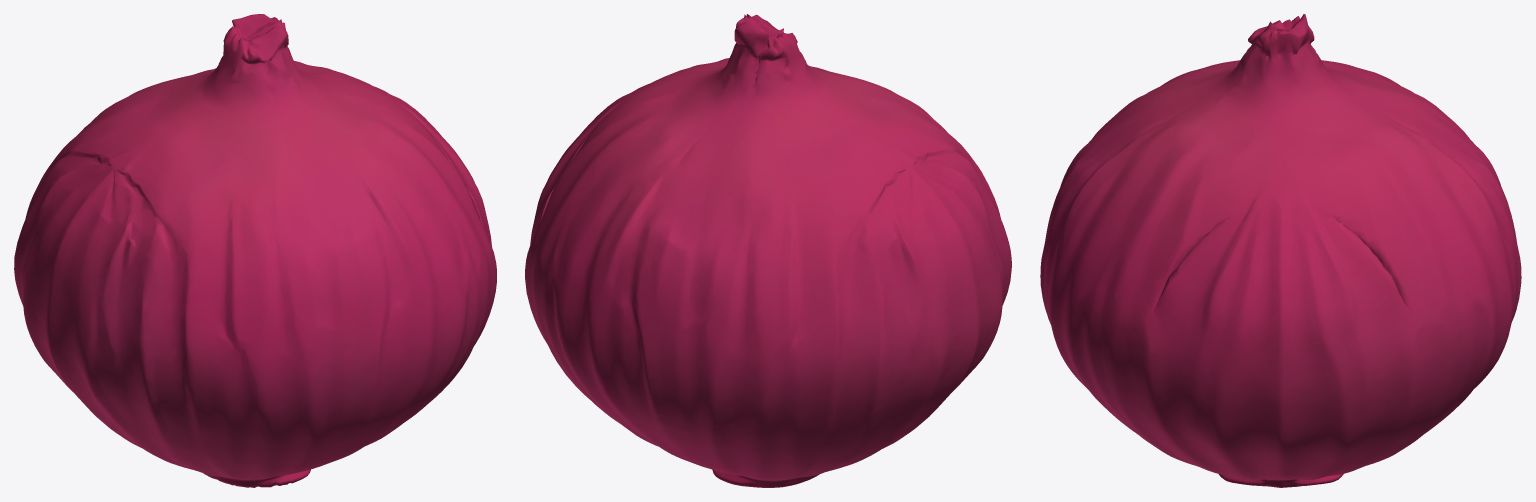
Rendered from cebolla.glb.
3 views of the same model, side by side, from view 1: azimuth 30°, elevation 25°; view 2: azimuth 150°, elevation 25°; view 3: azimuth 270°, elevation 25° (orthographic). The views are drawn at different scales.
Parts seen in each view (by area): view 1: tripo_node_be2f8836-63ed-4462-b276-28b527eebd72; view 2: tripo_node_be2f8836-63ed-4462-b276-28b527eebd72; view 3: tripo_node_be2f8836-63ed-4462-b276-28b527eebd72.
Boxes of the visible parts, x1,y1,x2,y2 form: tripo_node_be2f8836-63ed-4462-b276-28b527eebd72: (14,14,496,487); tripo_node_be2f8836-63ed-4462-b276-28b527eebd72: (525,14,1011,487); tripo_node_be2f8836-63ed-4462-b276-28b527eebd72: (1040,14,1521,487).
Bounding box in the file's own units: 0.9706 × 0.9808 × 0.9433.
Materials: 1 (1 with a texture image).
